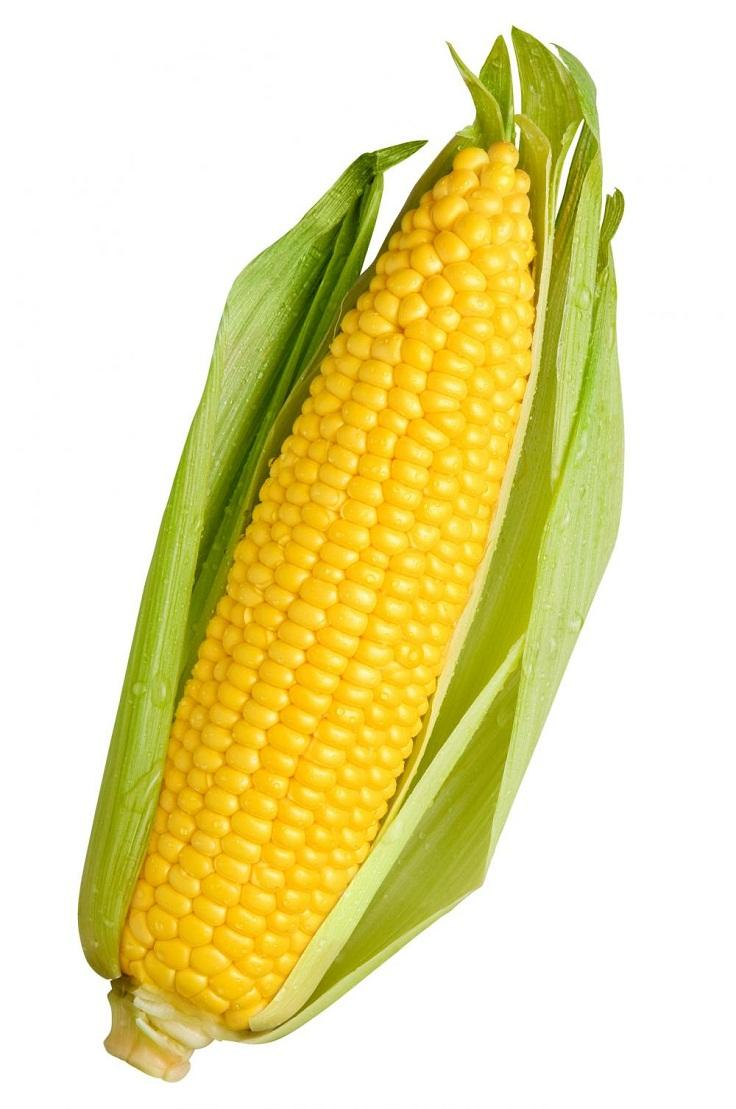corn: (103, 136, 540, 1050)
